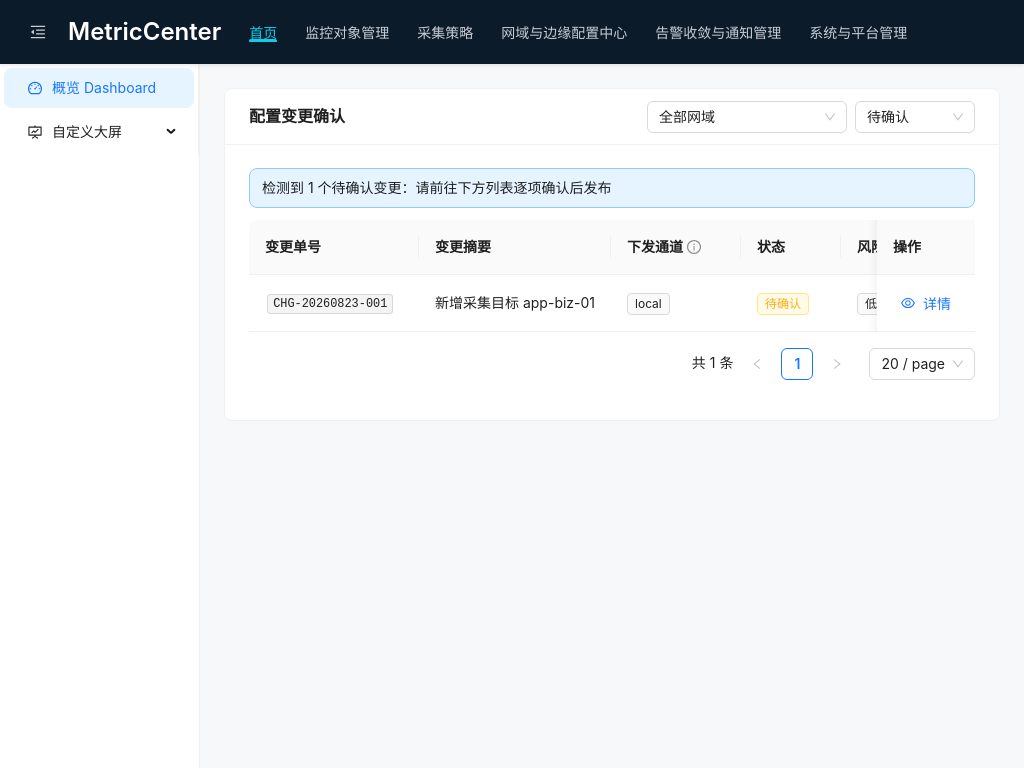
Test: ConfigPreviewPage（配置变更确认） › 点击「详情」打开抽屉并加载详情
Click the button "详情" at (926, 303), box [893, 291, 959, 315]
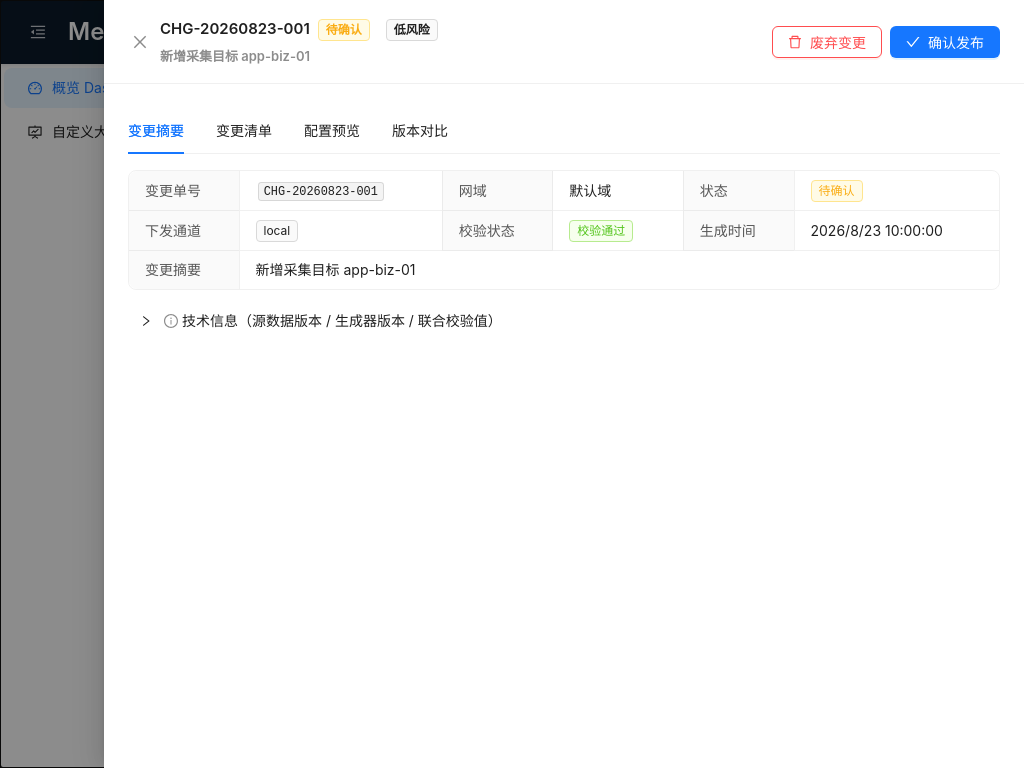
Check: the tab "变更摘要" is shown, box [128, 120, 184, 142]
